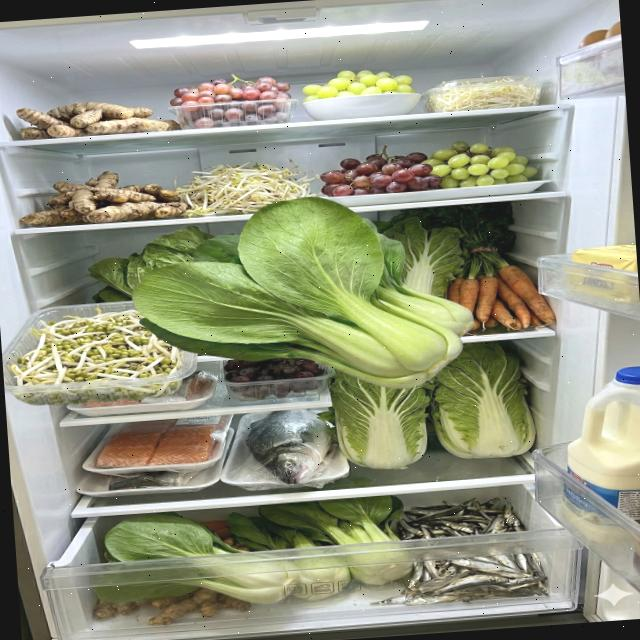bean_sprouts: (174, 156, 322, 217), (422, 74, 536, 114)
cabbage: (326, 338, 538, 474), (381, 213, 469, 302)
carrot: (446, 262, 556, 334)
fish: (242, 406, 336, 486), (93, 415, 227, 469)
grape: (319, 131, 540, 195), (168, 70, 294, 130), (224, 354, 327, 400), (300, 65, 417, 102)
pakchoy: (126, 185, 478, 407), (90, 494, 416, 616)
turmeric: (15, 95, 181, 141)
